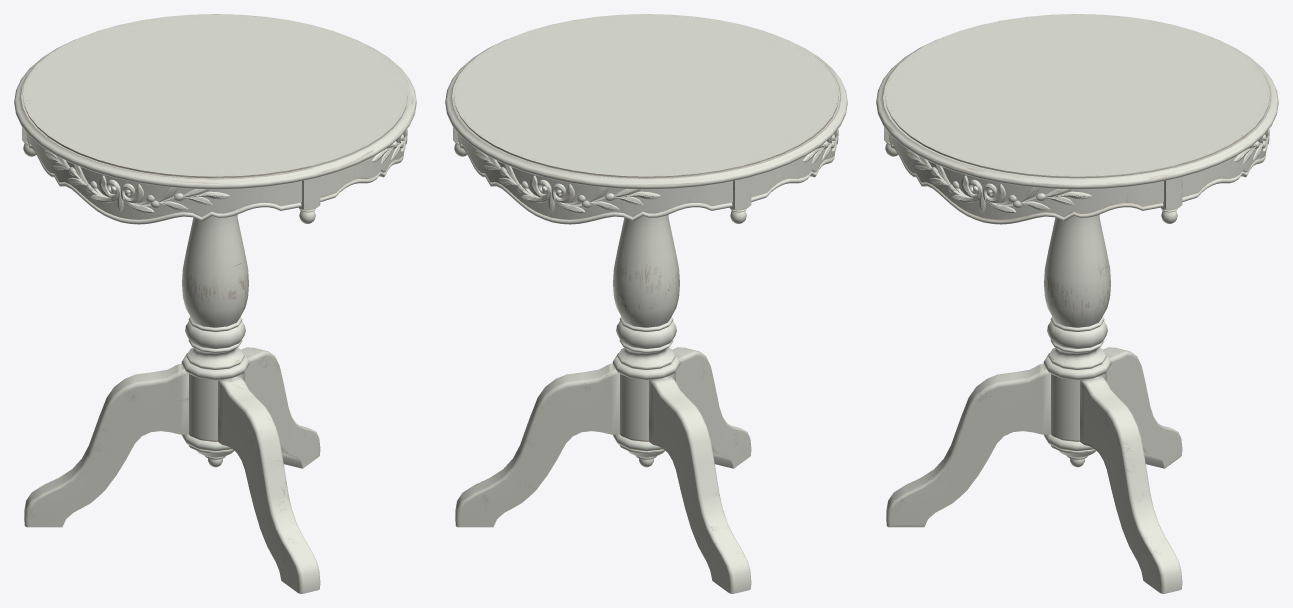
The model's file is example176.gltf.
3 views of the same model, side by side, from view 1: azimuth 30°, elevation 25°; view 2: azimuth 150°, elevation 25°; view 3: azimuth 270°, elevation 25° (orthographic).
Size of the model in its own units: 64.99 by 76 by 64.99.
1 material, 1 textured.
